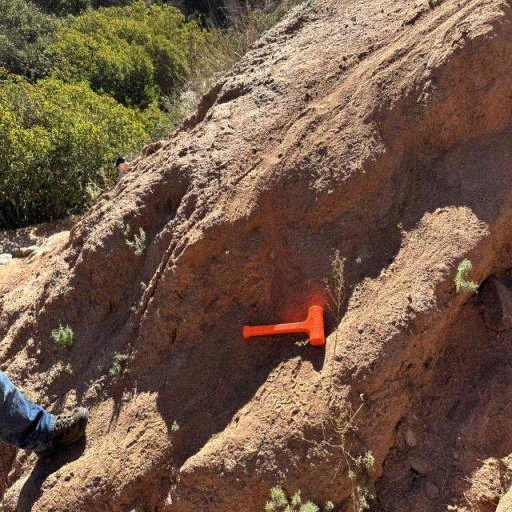mallet: (243, 304, 325, 346)
